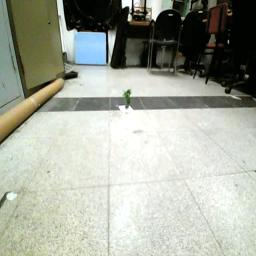herb: (123, 89, 134, 112)
